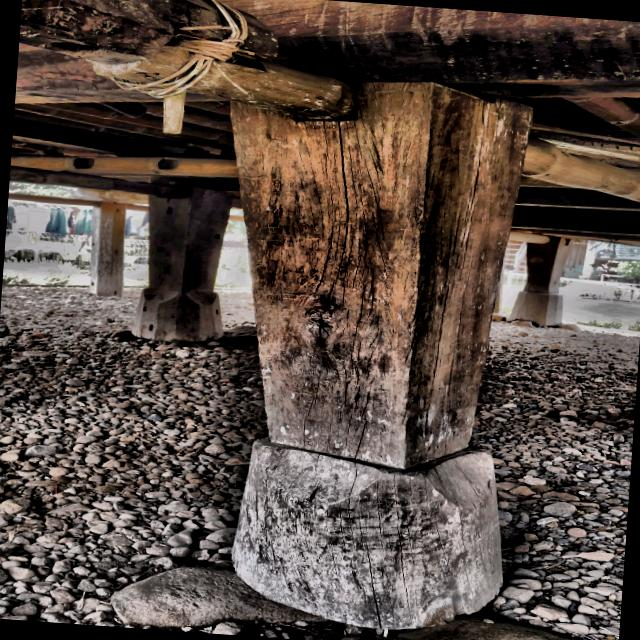column: (228, 82, 531, 629), (131, 195, 229, 341), (506, 234, 572, 325), (89, 202, 126, 297)
